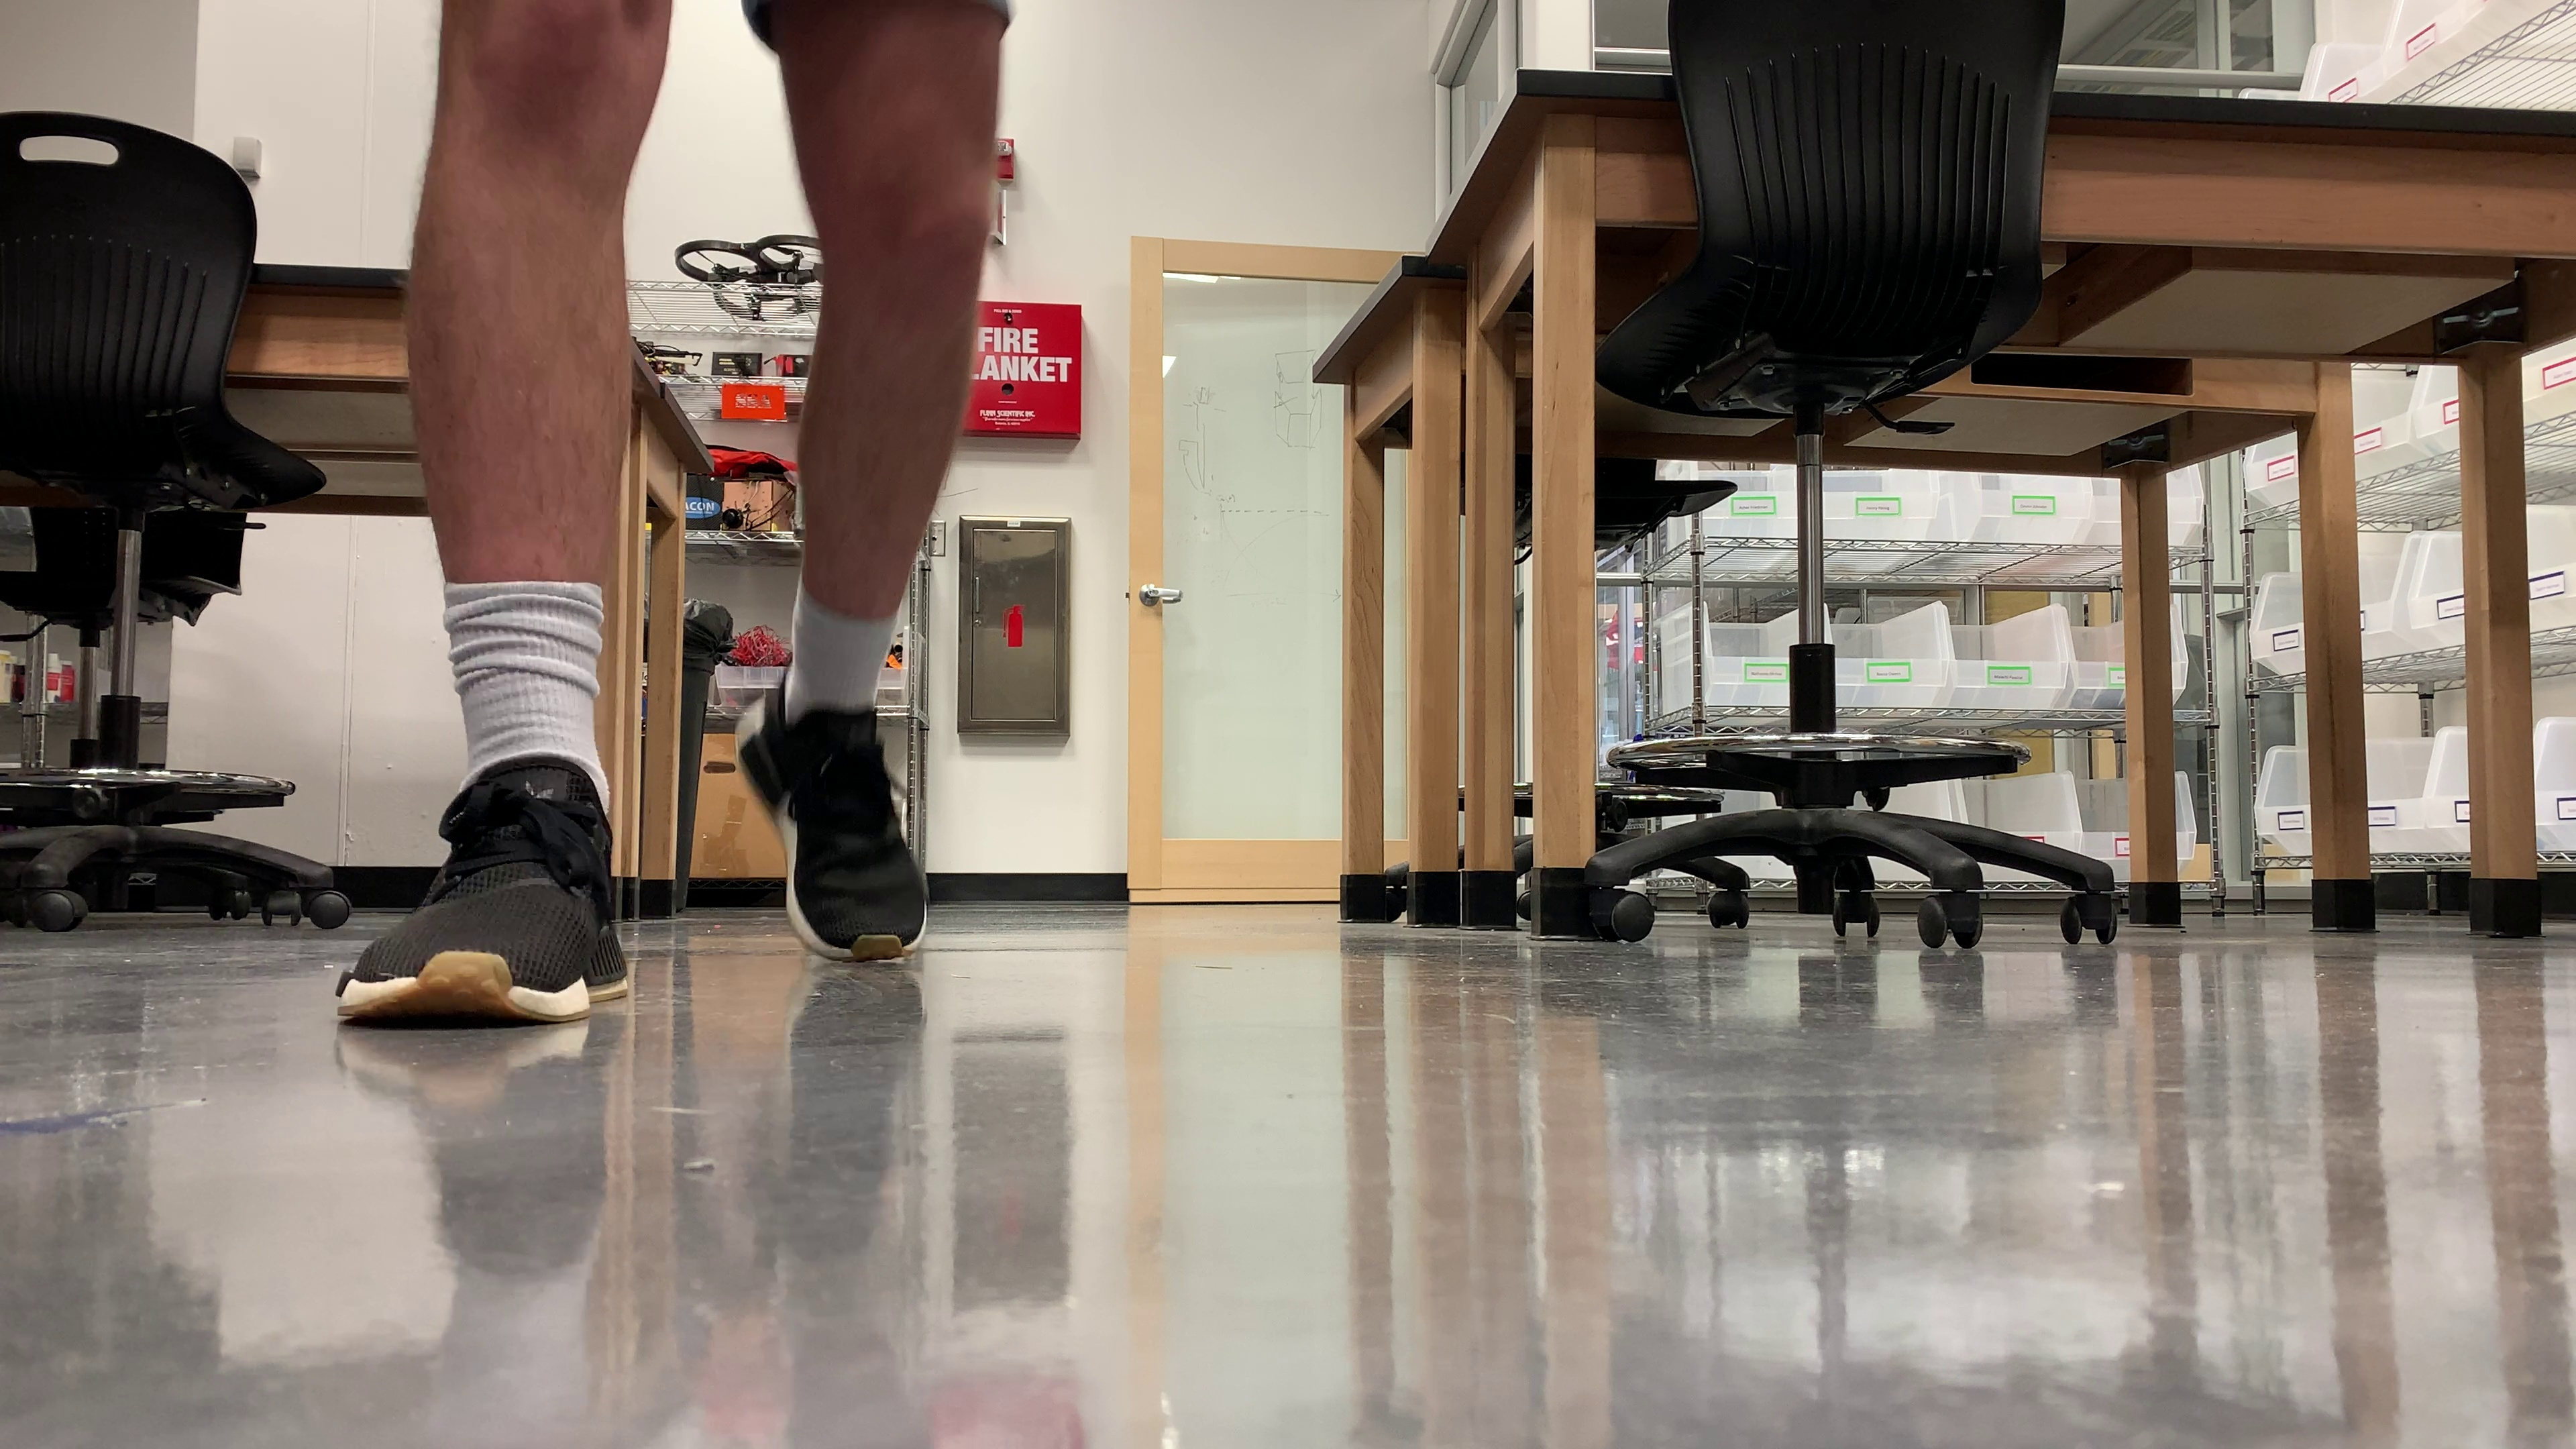shoe: (347, 754, 630, 1023), (741, 669, 927, 957)
